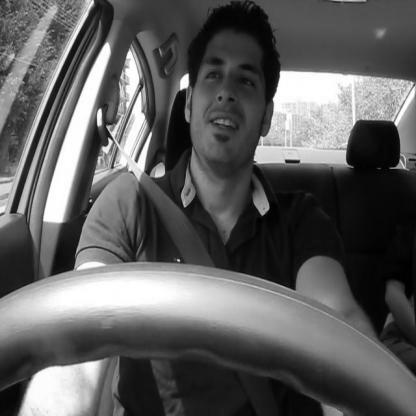seatbelt: (92, 0, 292, 416)
